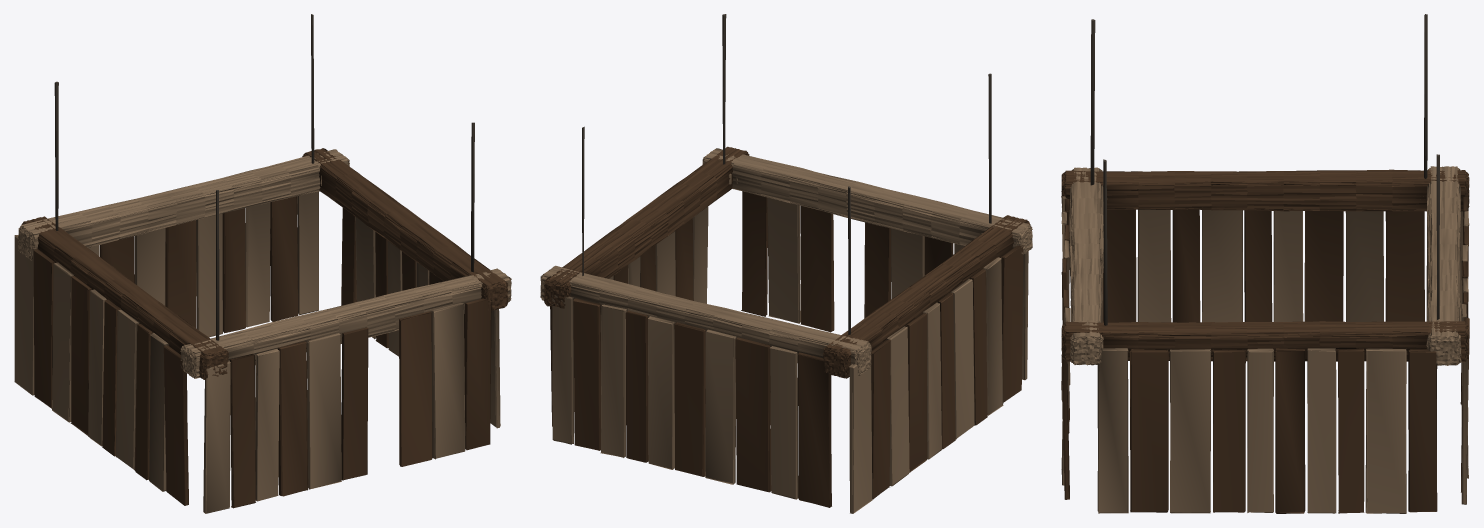
Rendered from timber_set.glb.
3 renders of one model, left to right at view 1: azimuth 30°, elevation 25°; view 2: azimuth 150°, elevation 25°; view 3: azimuth 270°, elevation 25°, orthographic. The views are drawn at different scales.
Visible parts, largest first — view 1: TimberSet; view 2: TimberSet; view 3: TimberSet.
Boxes of the visible parts, box(x1,y1,x2,y2) form: TimberSet: box(14, 14, 511, 513); TimberSet: box(540, 14, 1032, 513); TimberSet: box(1061, 14, 1469, 513).
Bounding box in the file's own units: 3.31 × 3.06 × 3.31.
